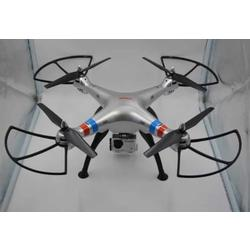drone: (3, 56, 242, 183)
